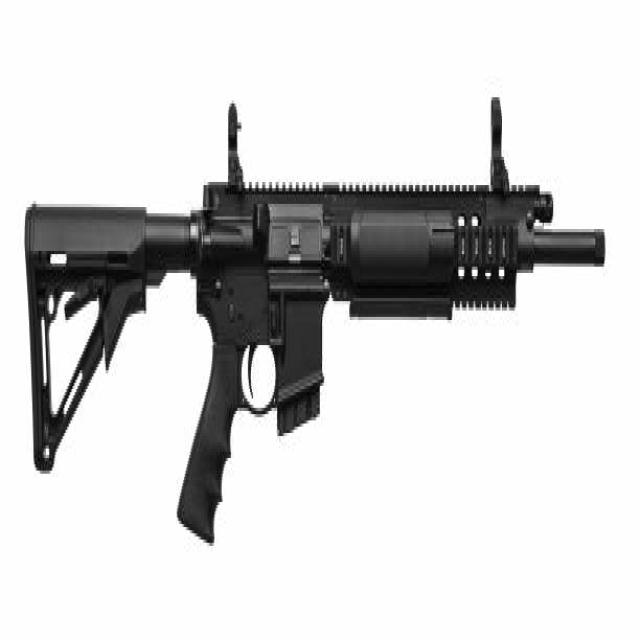rifle: (21, 80, 613, 572)
